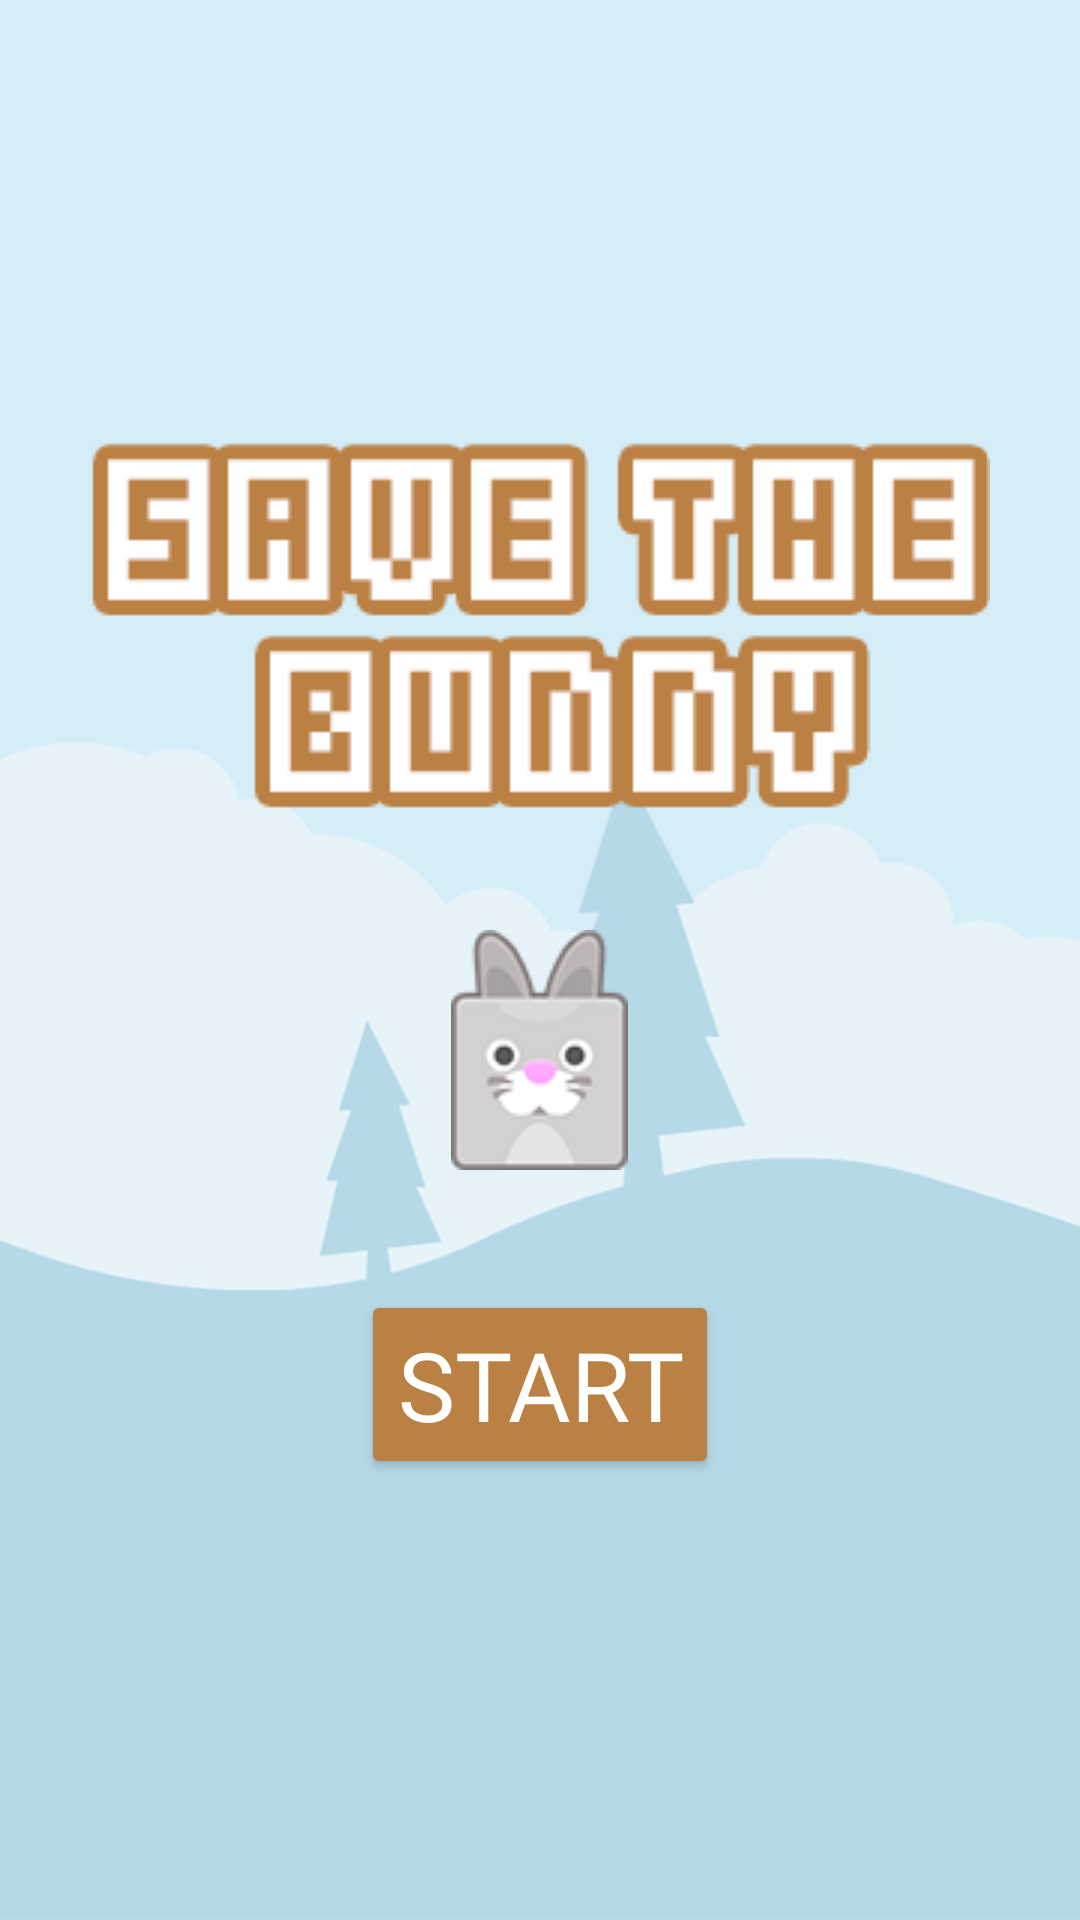

Icons on this 1080×1920 Android screen, each with its box as [x1, y1, x2, y2]:
rabbit: [451, 930, 628, 1170]
